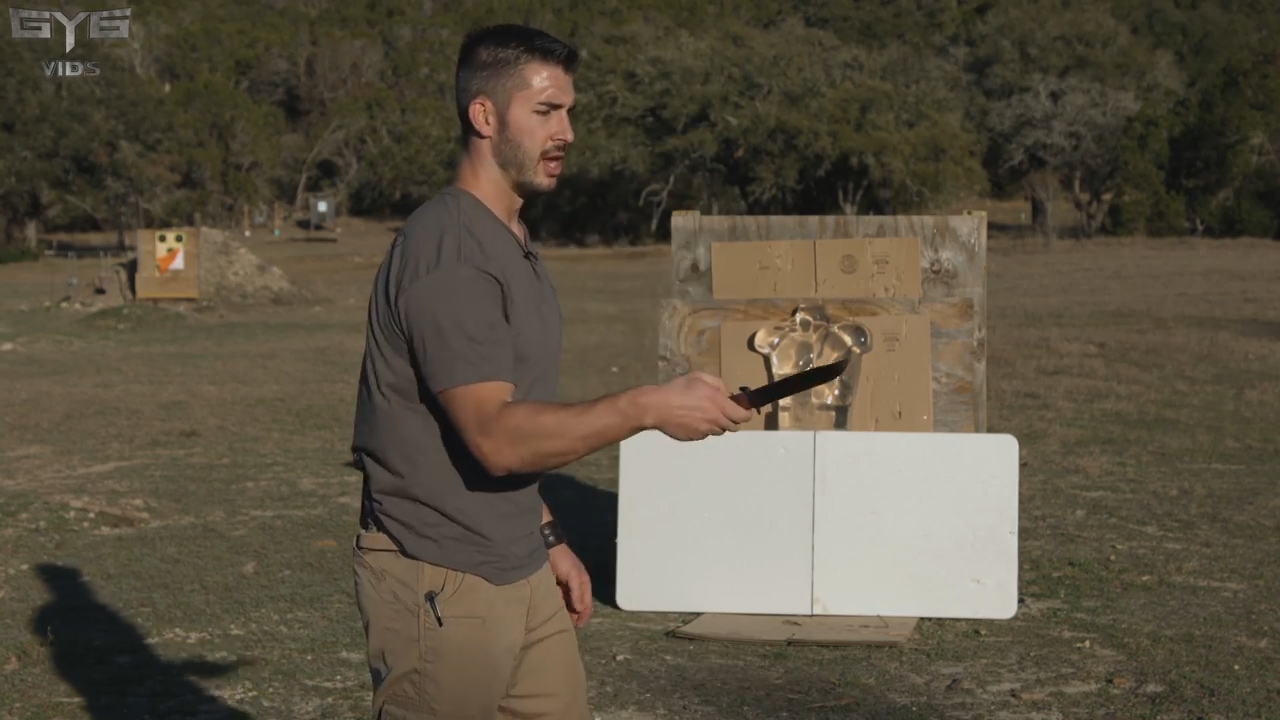knife: (657, 349, 864, 447)
